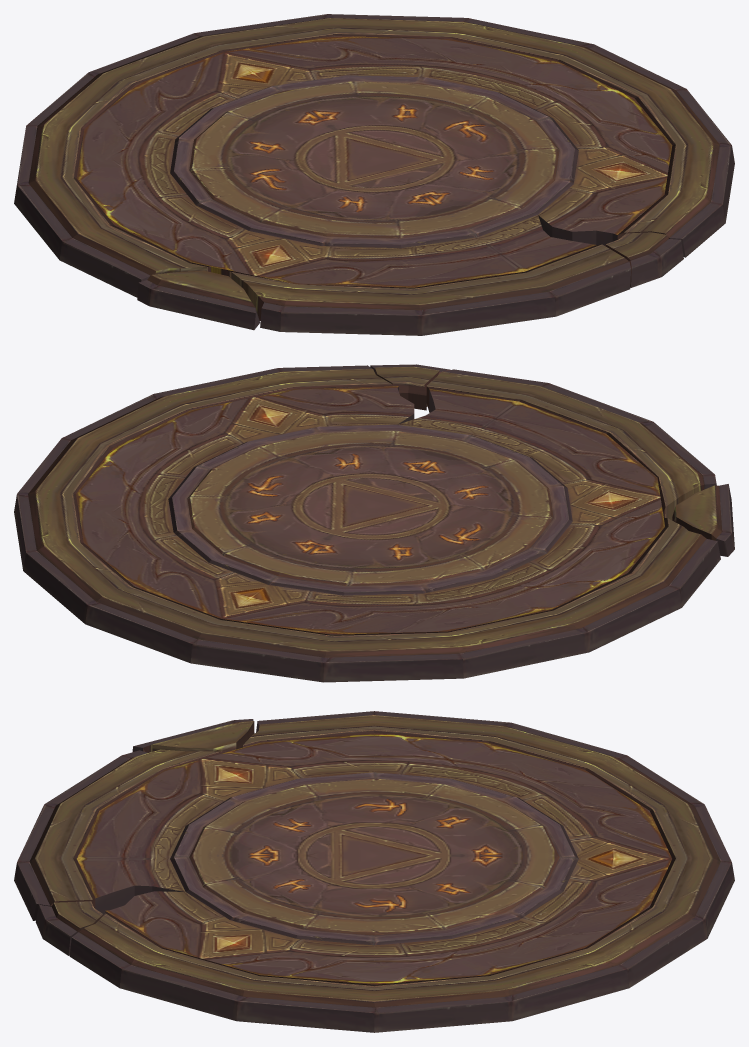
File: FB6_yuantai01.FBX
3 views of the same model, one above another, from view 1: azimuth 30°, elevation 25°; view 2: azimuth 150°, elevation 25°; view 3: azimuth 270°, elevation 25° (orthographic).
Parts seen in each view (by area): view 1: FB6_yuantai01_001, FB6_yuantai01_003, FB6_yuantai01_002; view 2: FB6_yuantai01_001, FB6_yuantai01_003, FB6_yuantai01_002; view 3: FB6_yuantai01_001, FB6_yuantai01_003, FB6_yuantai01_002.
Boxes of the visible parts, bbox=[...] form: FB6_yuantai01_001: bbox=[14, 14, 734, 335]; FB6_yuantai01_003: bbox=[137, 270, 260, 330]; FB6_yuantai01_002: bbox=[605, 232, 683, 287]; FB6_yuantai01_001: bbox=[14, 365, 720, 682]; FB6_yuantai01_003: bbox=[672, 484, 734, 556]; FB6_yuantai01_002: bbox=[370, 364, 450, 410]; FB6_yuantai01_001: bbox=[14, 711, 734, 1032]; FB6_yuantai01_003: bbox=[132, 719, 254, 752]; FB6_yuantai01_002: bbox=[35, 901, 103, 955].
Bounding box in the file's own units: 1337 × 54.9 × 1337.
1 material, 1 textured.
